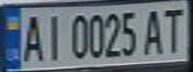0: (66, 10, 90, 61), (87, 10, 106, 60)
2: (103, 9, 124, 60)
5: (118, 7, 142, 57)
A: (139, 6, 169, 56), (18, 11, 45, 63)
I: (42, 10, 66, 62)
T: (157, 4, 187, 55)
